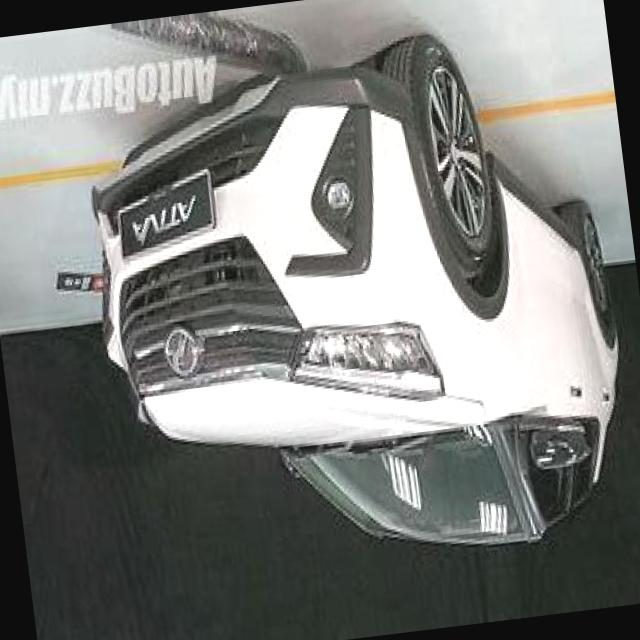PeroduaAtiva: (67, 14, 640, 594)
